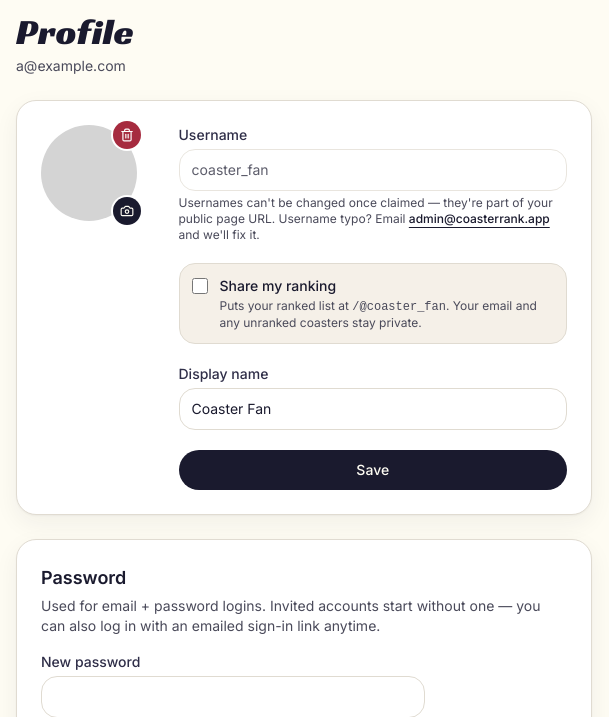
Test: ProfilePage › saves display-name edits without sending the locked username
Replace the text in the field showing "Coaster Fan" with "New Name": [373, 409] box [178, 388, 567, 430]
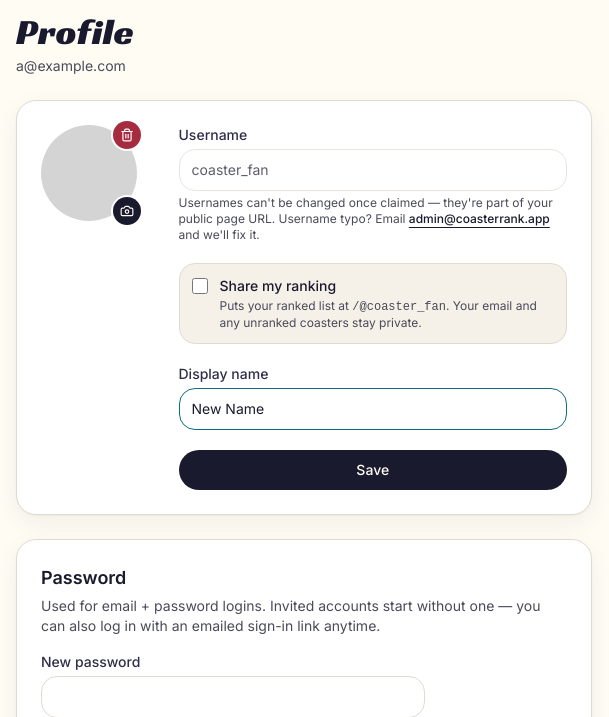
Click the button "Save": [373, 470] box [178, 450, 567, 490]
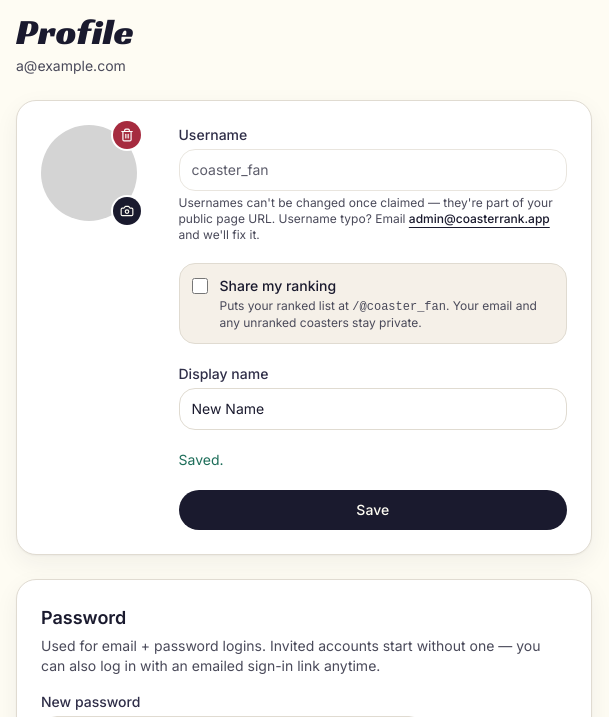
Result: the text "Saved." is shown at [178, 451, 224, 468]
